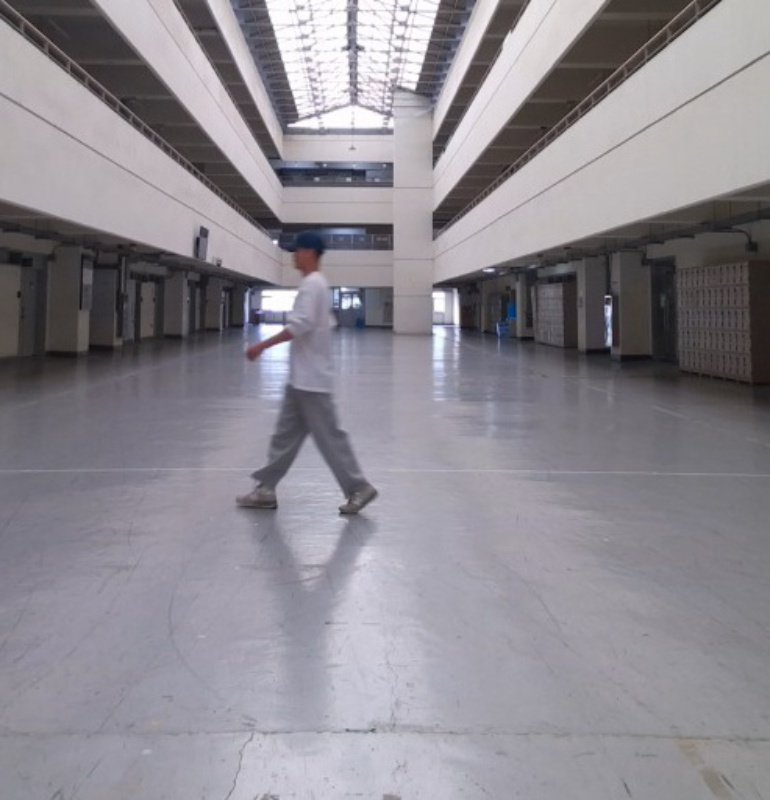person: (233, 228, 378, 517)
